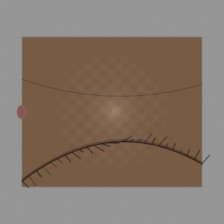hemorrhage_spot: (35, 85, 131, 162)
